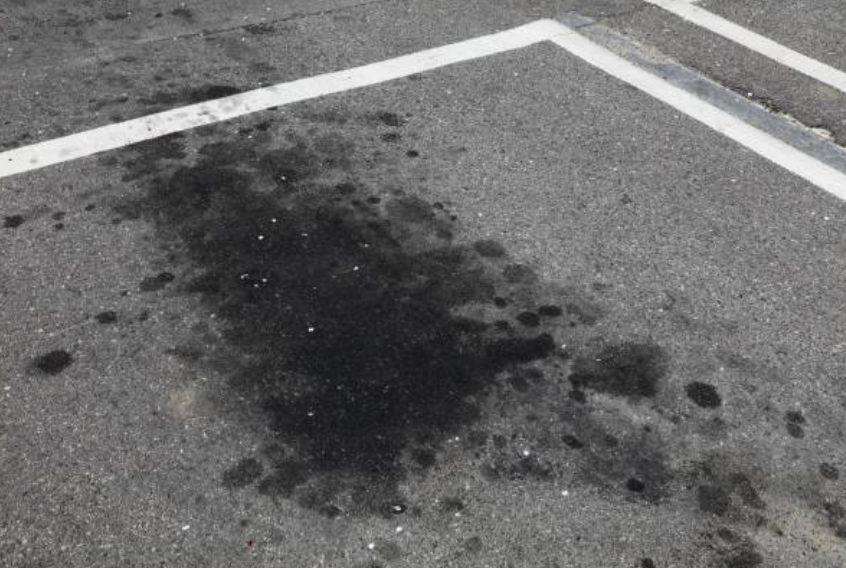oil: (56, 41, 420, 283), (1, 94, 53, 124), (11, 173, 37, 190)
